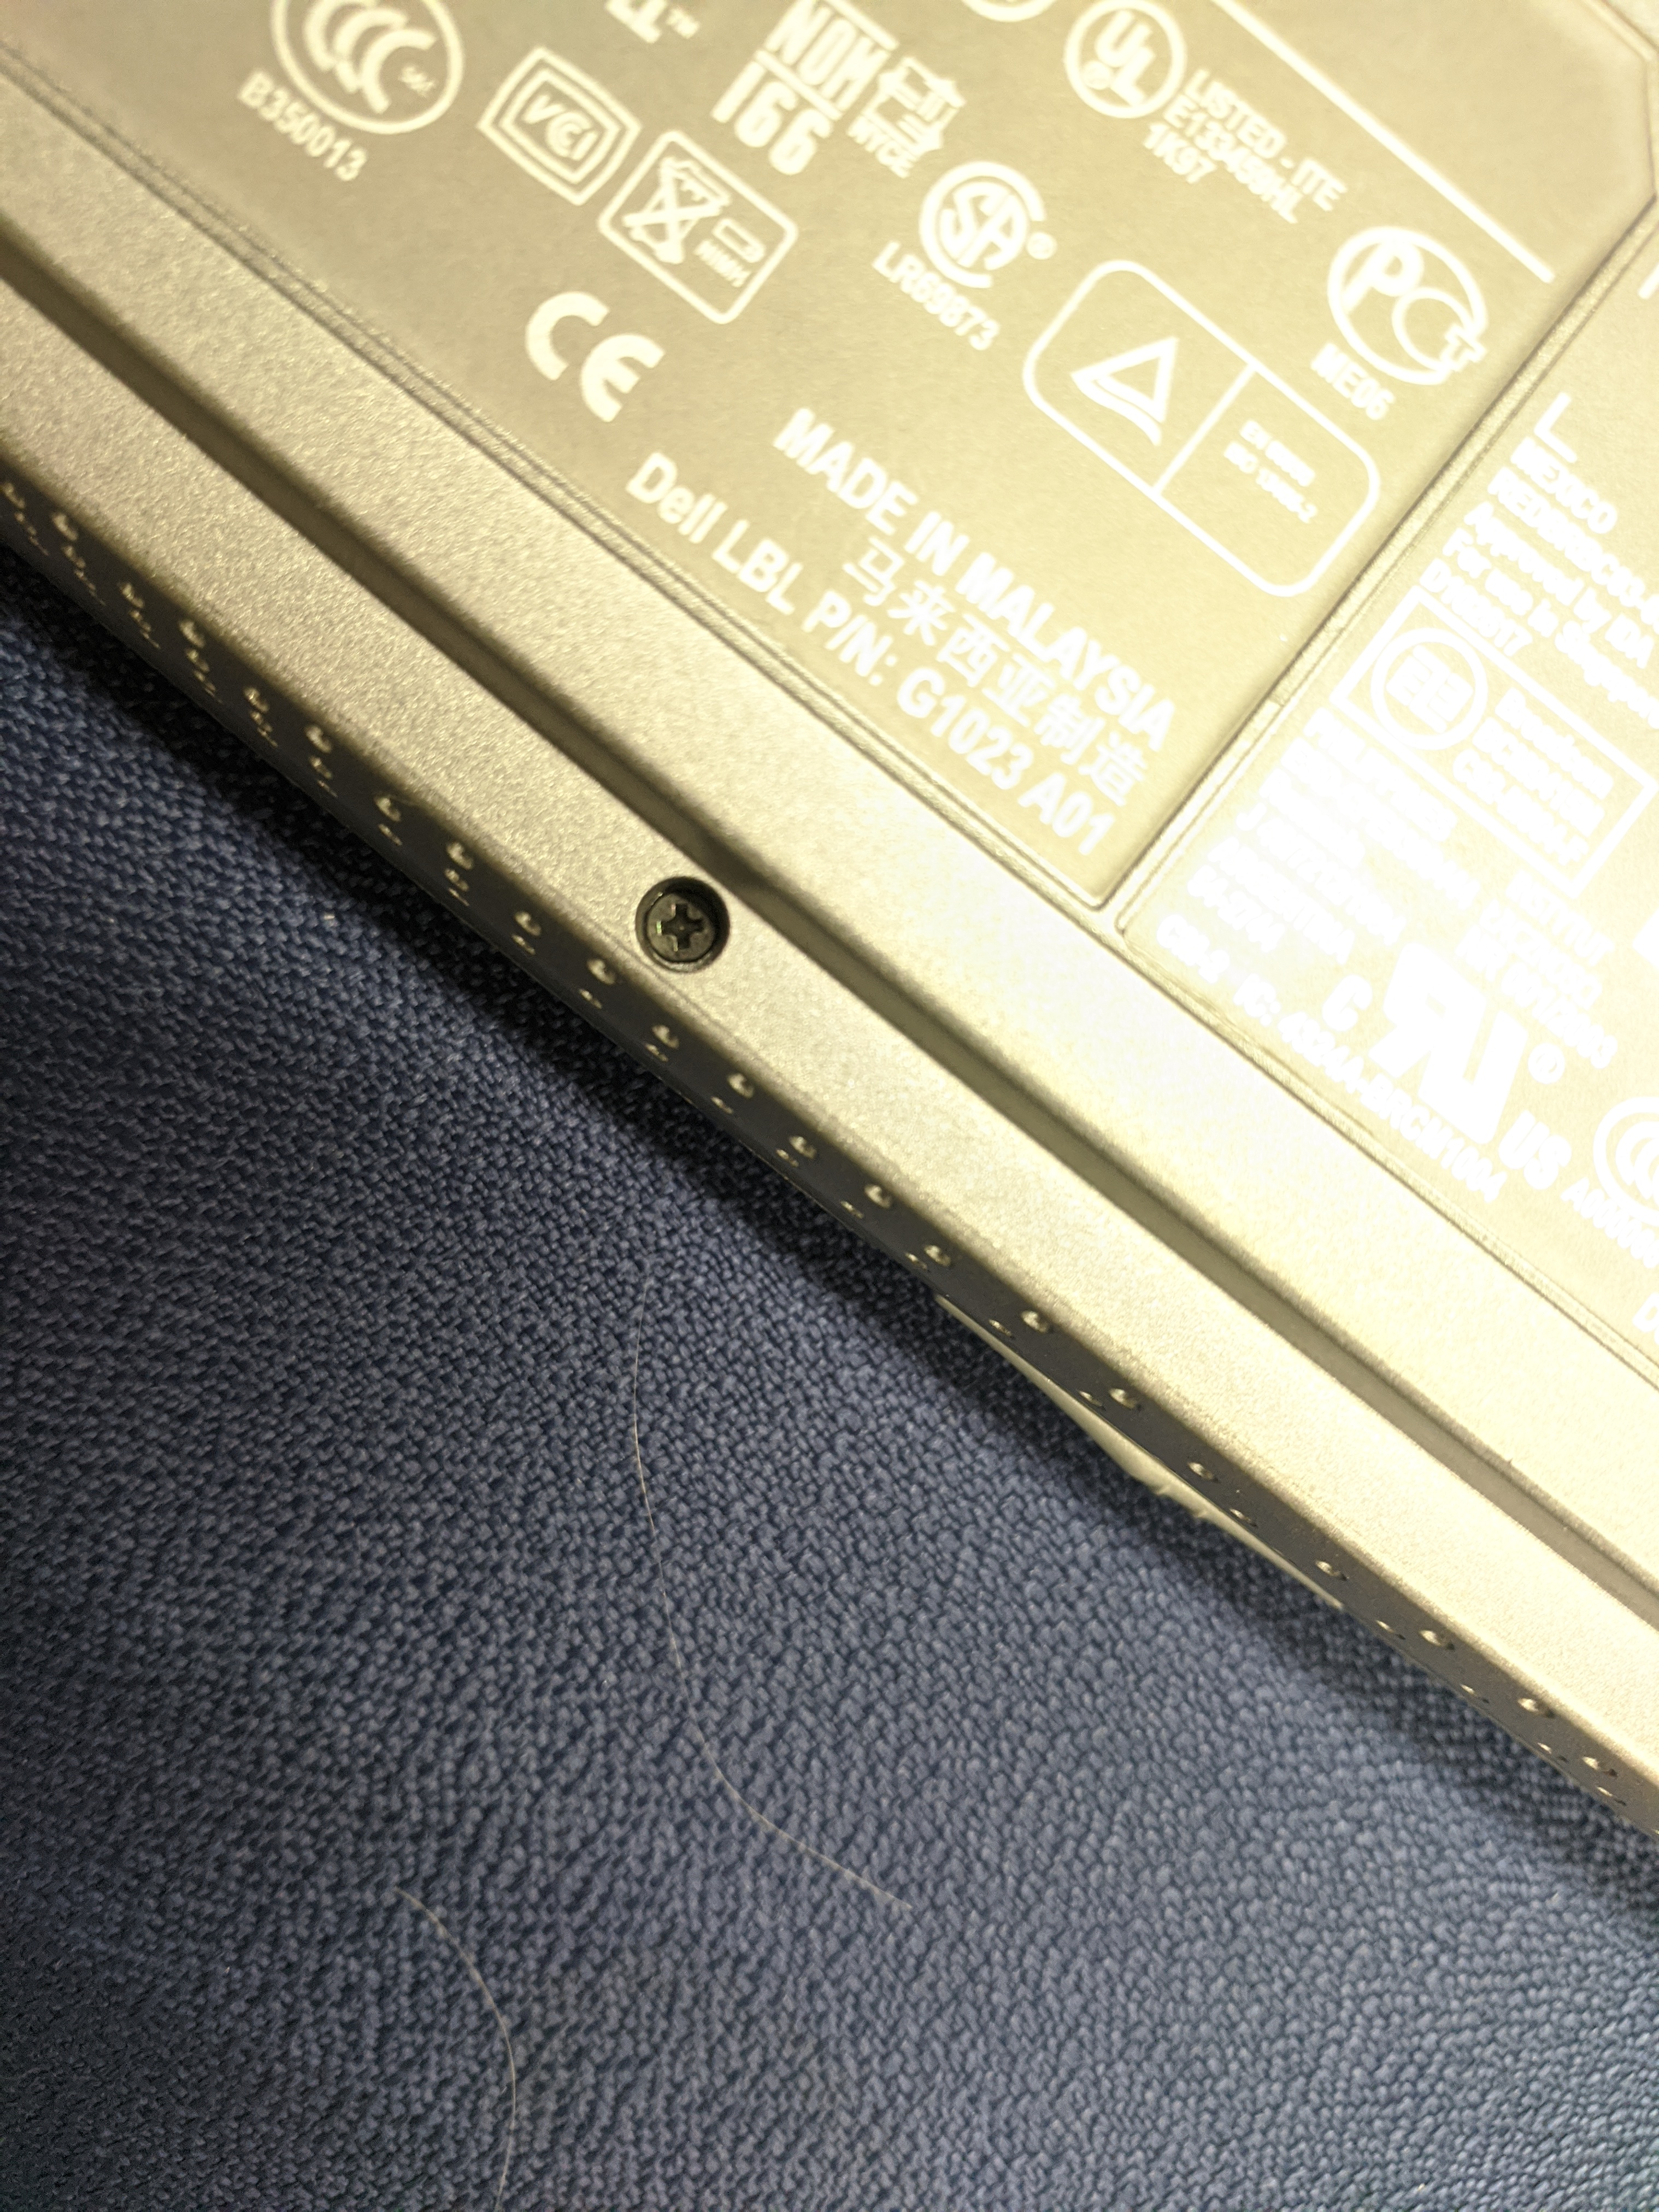cross_recessed_screw: (636, 873, 720, 963)
